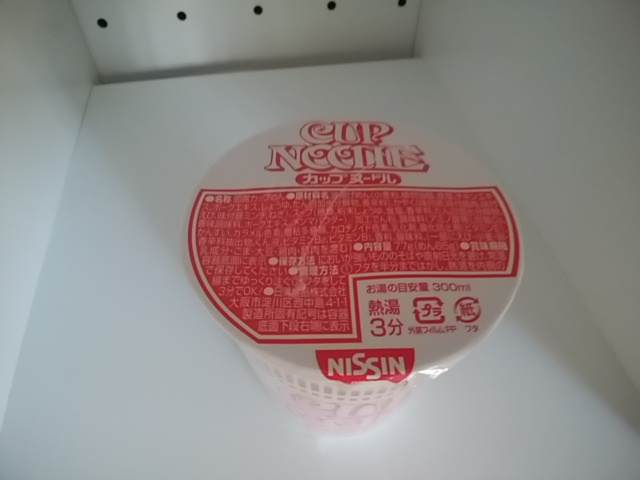cup-ramen: (183, 109, 526, 452)
